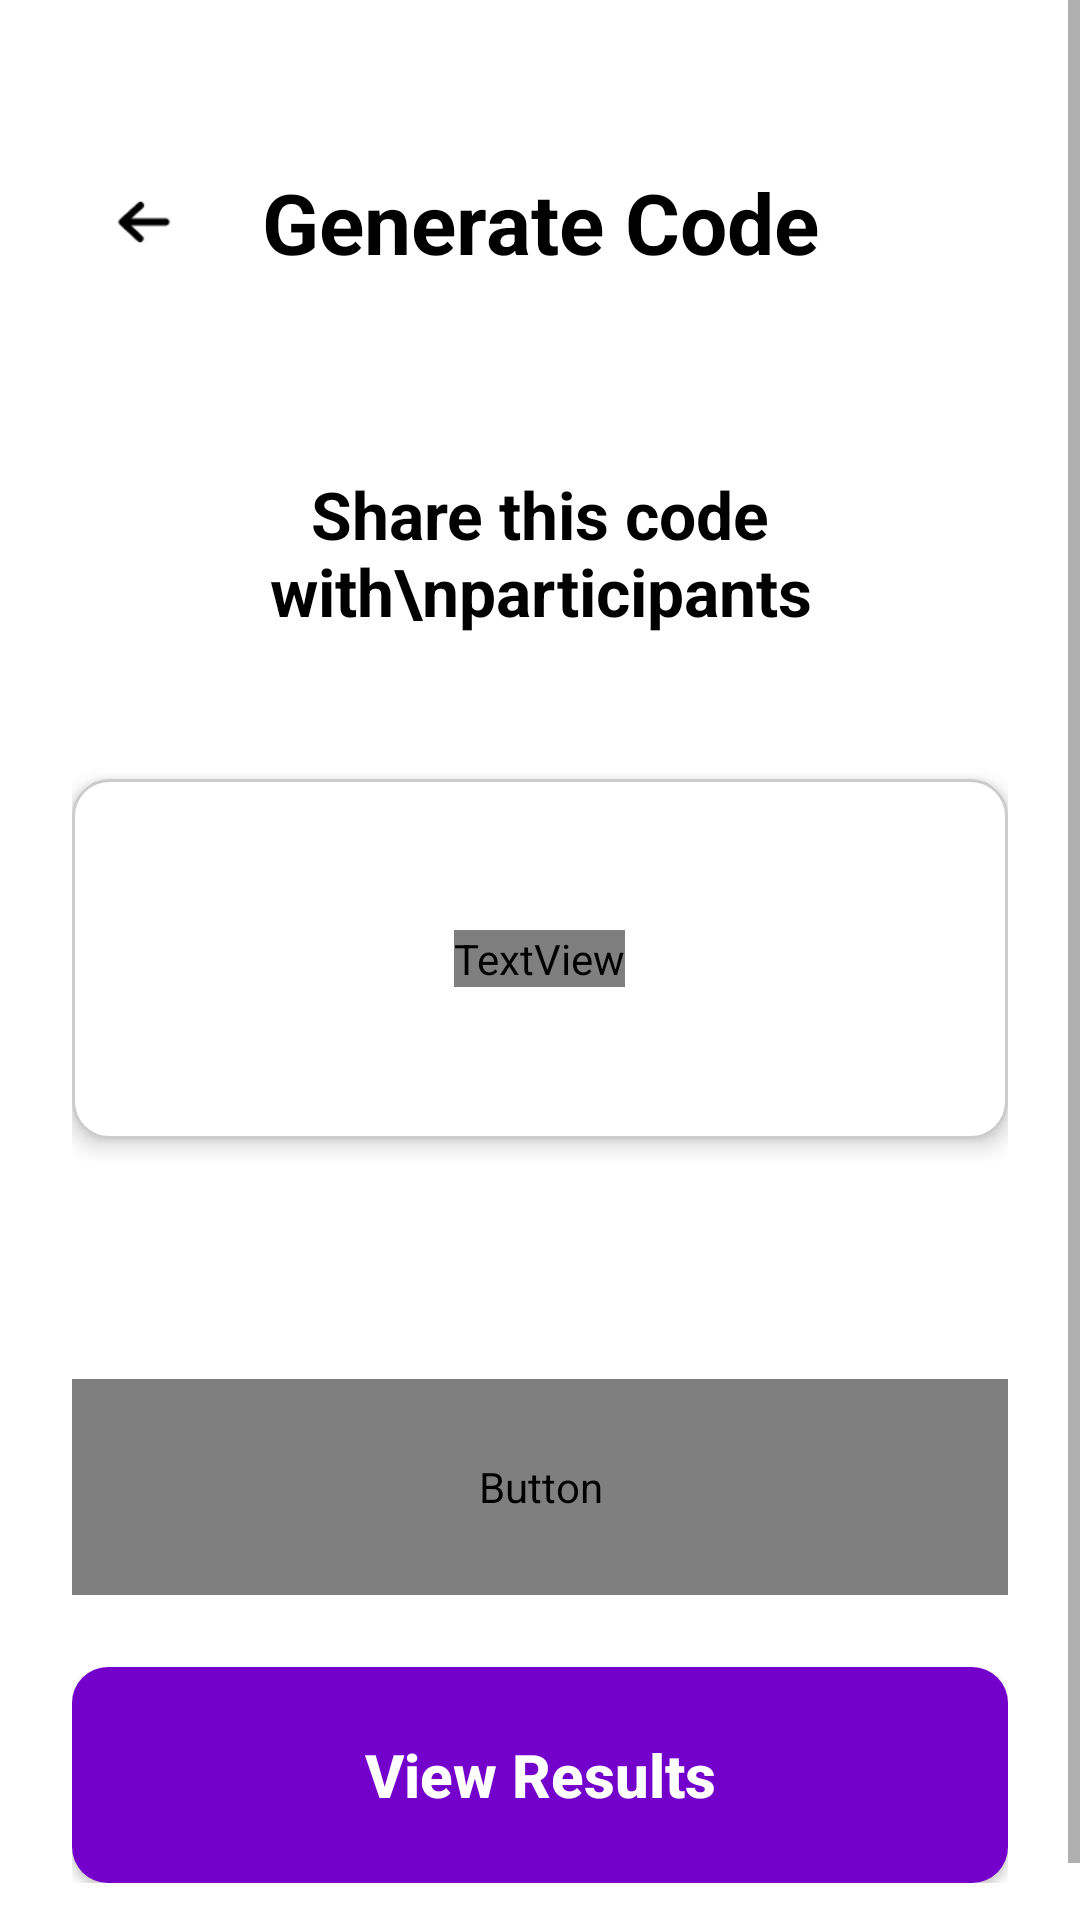

Icons on this 1080 x 1920 Android screen, each with its box as (x1, y1, x2, y2):
back arrow: (118, 201, 170, 243)
